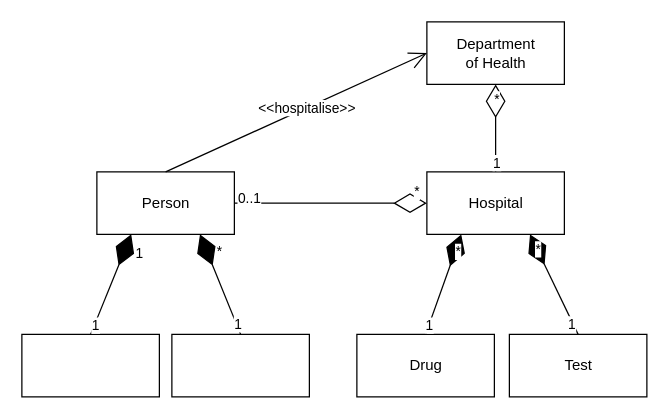
This 669x419 diagram has some shape labels left out. The shapes that lost their labels are listed below. From the top down, each one's box as (x1, y1, x2, y2) in pixels, then its label:
(21, 333, 159, 397): Virus
(171, 333, 309, 397): Antibody
